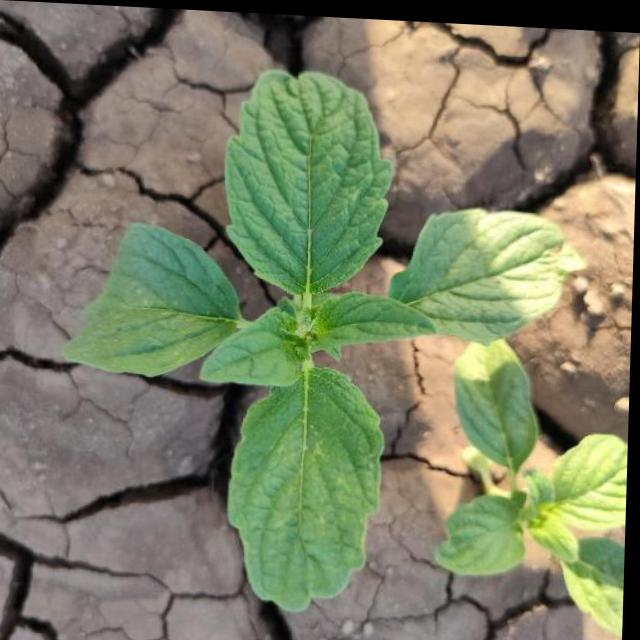crop: (74, 59, 573, 602), (408, 314, 633, 634)
